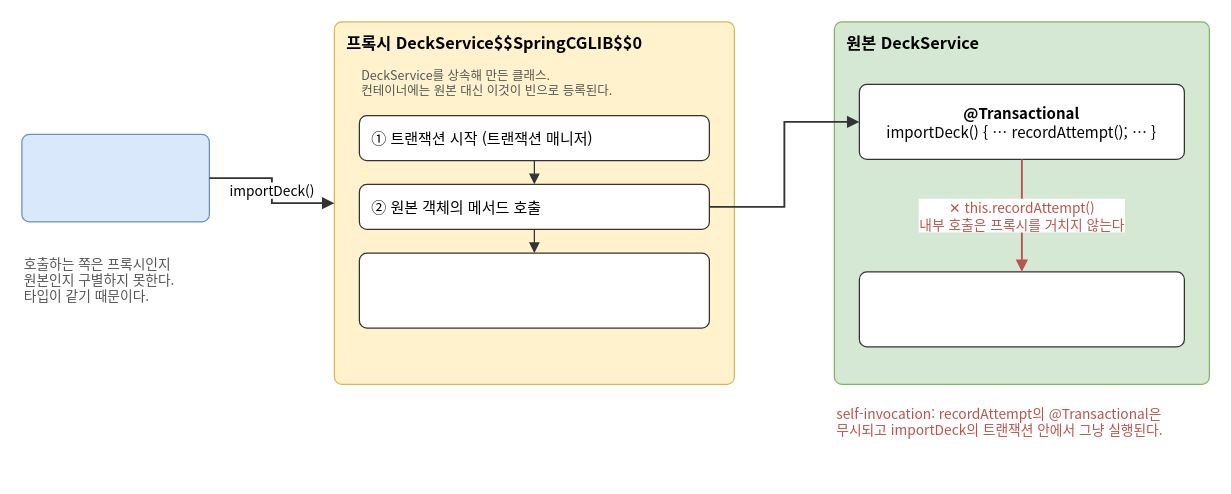
Image size: 1231x494. Some labels were removed from this diagram. The centre of each missing label's shape, as x and y in pixels:
@Transactional(REQUIRES_NEW) recordAttempt(): point 1021,309
③ 정상 종료 → 커밋 unchecked 예외 → 롤백: point 533,290
다른 빈 컨트롤러, 테스트 등 주입받은 DeckService 호출: point 115,177
